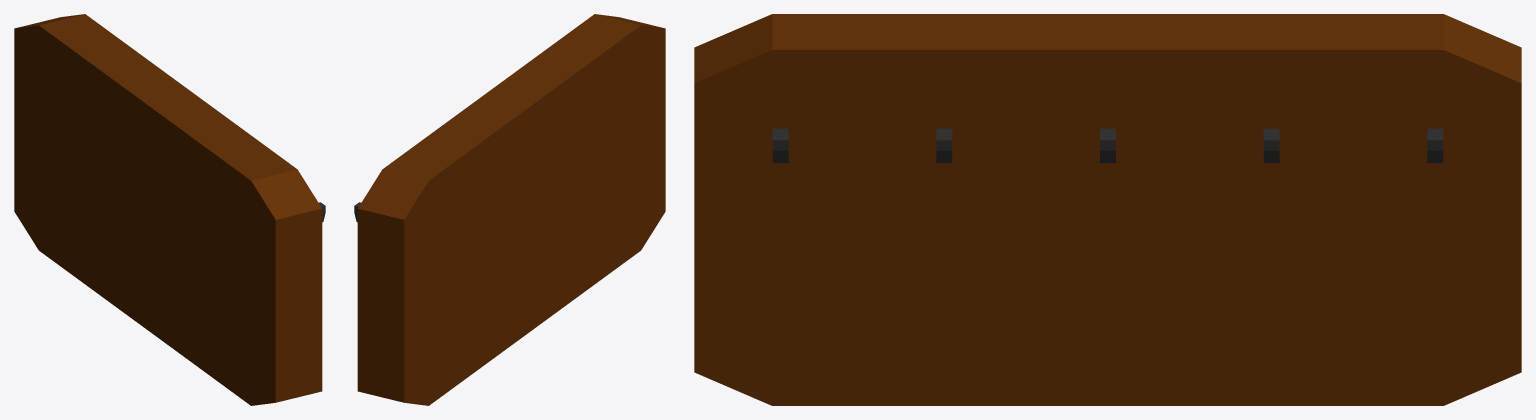
The model's file is Board.fbx.
3 views of the same model, side by side, from view 1: azimuth 30°, elevation 25°; view 2: azimuth 150°, elevation 25°; view 3: azimuth 270°, elevation 25° (orthographic). The views are drawn at different scales.
Parts seen in each view (by area): view 1: Cube; view 2: Cube; view 3: Cube, Cube.001.
Part boxes in pixels (bbox=[...]): Cube: bbox=[14, 14, 322, 405]; Cube: bbox=[357, 14, 665, 405]; Cube: bbox=[694, 14, 1521, 405]; Cube.001: bbox=[772, 128, 1443, 163].
Size of the model in its own units: 125 by 359 by 756.
